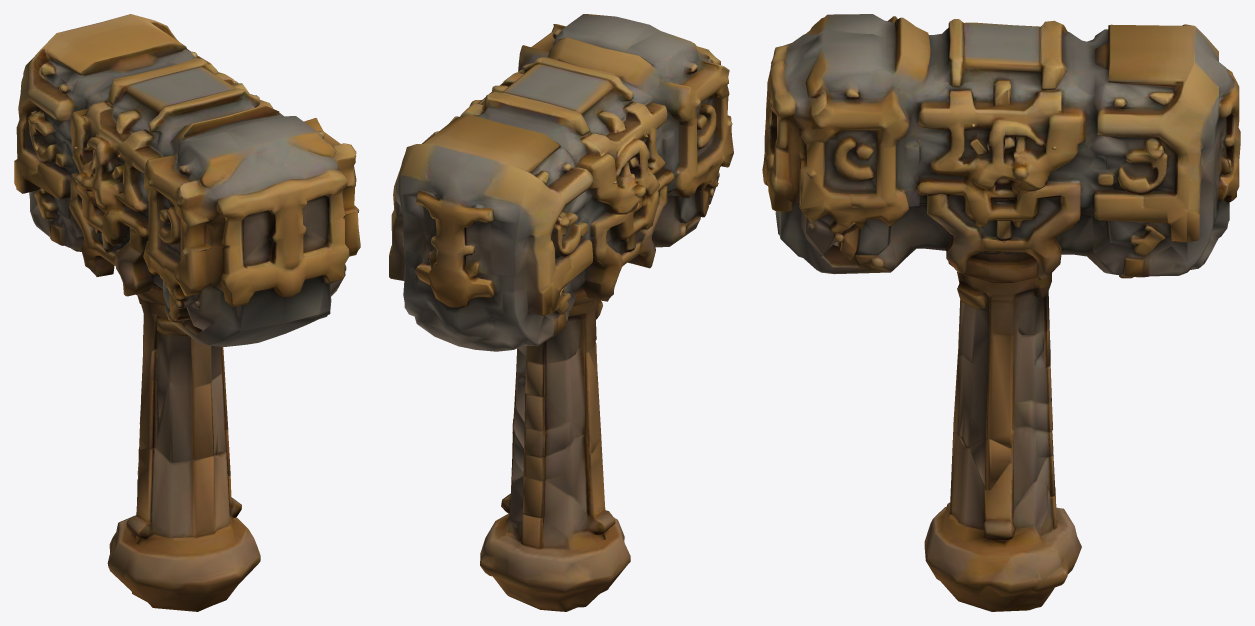
Rendered from hammer-of-gods.glb.
The picture shows the model from 3 angles, left to right: view 1: azimuth 30°, elevation 25°; view 2: azimuth 150°, elevation 25°; view 3: azimuth 270°, elevation 25°; orthographic projection. The views are drawn at different scales.
Parts seen in each view (by area): view 1: tripo_node_d2968c11-be8b-42db-8568-3e91102e2355; view 2: tripo_node_d2968c11-be8b-42db-8568-3e91102e2355; view 3: tripo_node_d2968c11-be8b-42db-8568-3e91102e2355.
Boxes of the visible parts, box(x1,y1,x2,y2) form: tripo_node_d2968c11-be8b-42db-8568-3e91102e2355: box(14, 14, 360, 611); tripo_node_d2968c11-be8b-42db-8568-3e91102e2355: box(389, 14, 733, 611); tripo_node_d2968c11-be8b-42db-8568-3e91102e2355: box(762, 14, 1240, 611).
Size of the model in its own units: 0.3972 by 1 by 0.7789.
1 material, 1 textured.
